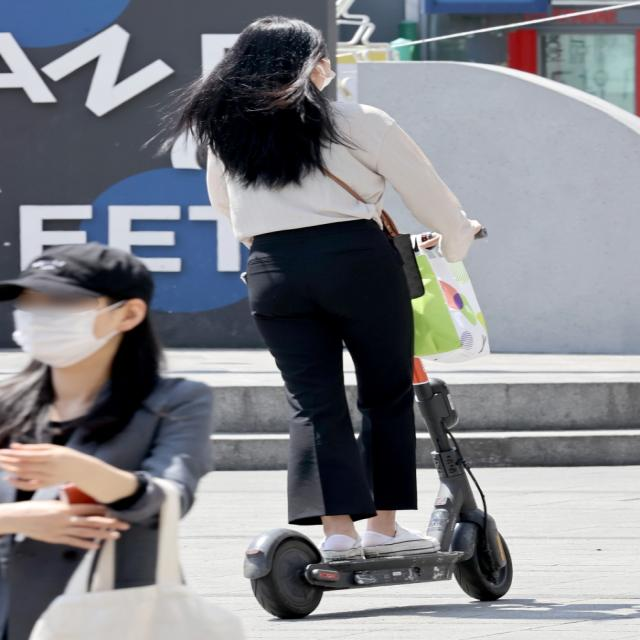non-helmet: (132, 11, 591, 623)
